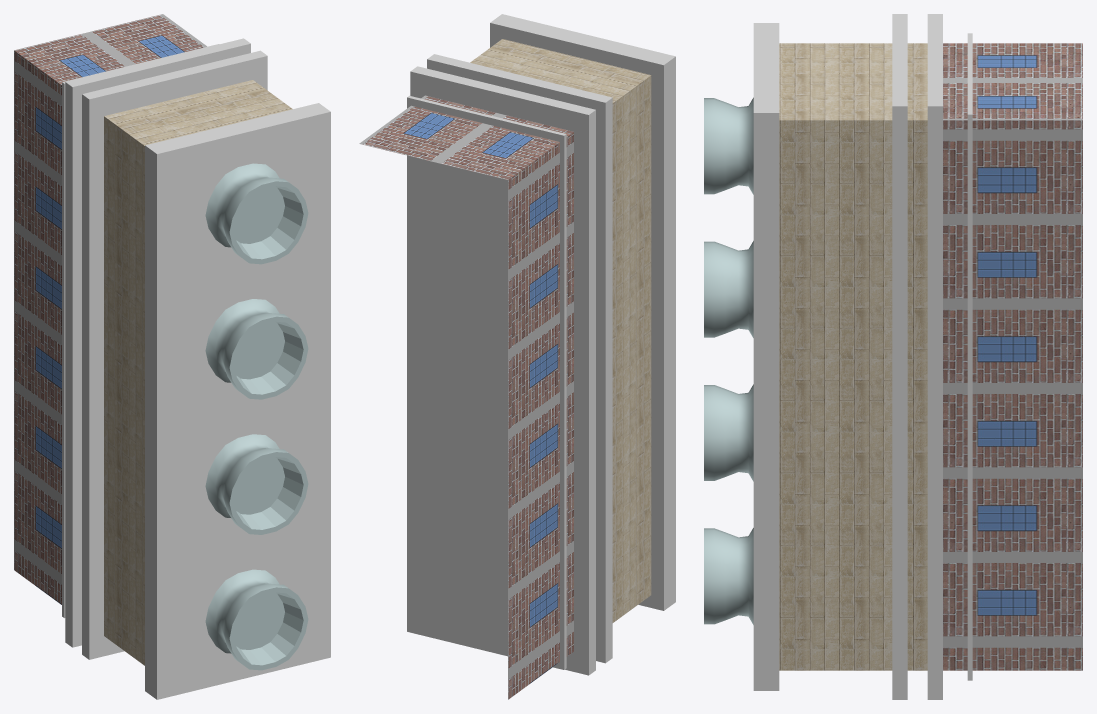
File: lqt.gltf
3 renders of one model, left to right at view 1: azimuth 30°, elevation 25°; view 2: azimuth 150°, elevation 25°; view 3: azimuth 270°, elevation 25°, orthographic. The views are drawn at different scales.
Visible parts, largest first — view 1: Box001; view 2: Box001; view 3: Box001.
Part boxes in pixels (x1,y1,x2,y2): Box001: [14, 14, 330, 699]; Box001: [359, 14, 675, 699]; Box001: [704, 14, 1082, 699].
Bounding box in the file's own units: 14.38 × 43.13 × 24.94.
4 materials, 4 textured.
